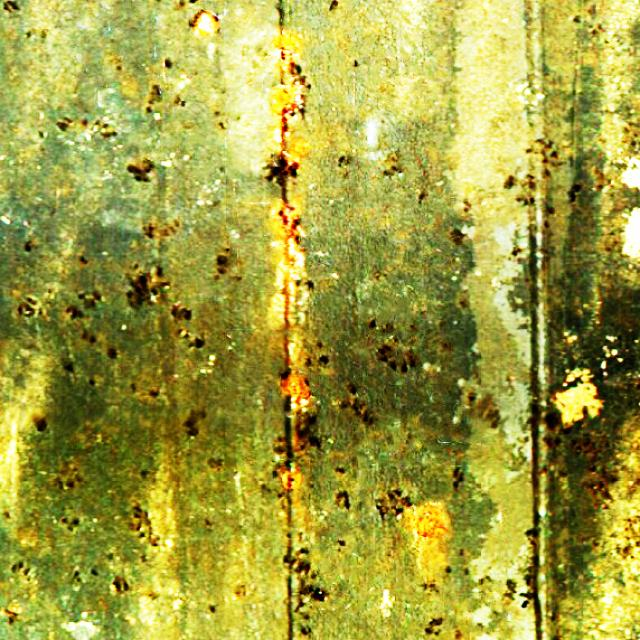Corrosion: (278, 206, 300, 322), (408, 503, 447, 539), (271, 76, 302, 118), (273, 31, 302, 68), (280, 140, 308, 172), (281, 376, 308, 408), (193, 12, 218, 34), (271, 124, 291, 146), (283, 469, 301, 489)
